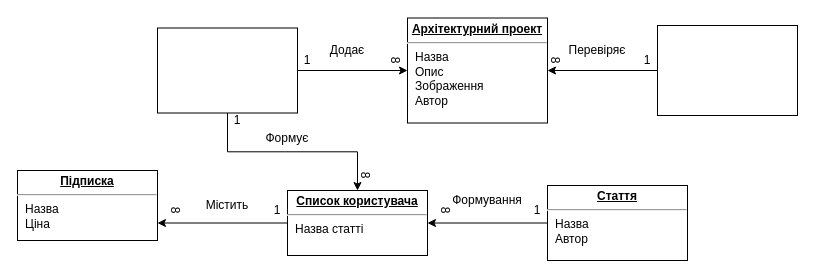
The diagram is 815 pixels wide and 278 high, and some of its shapes have lost their labels. Each missing label, with the centre of its shape:
Адміністратор Ім'я Прізвище Оцінка: pixel 727 70
Користувач Ім'я Прізвище Пошта: pixel 227 70
